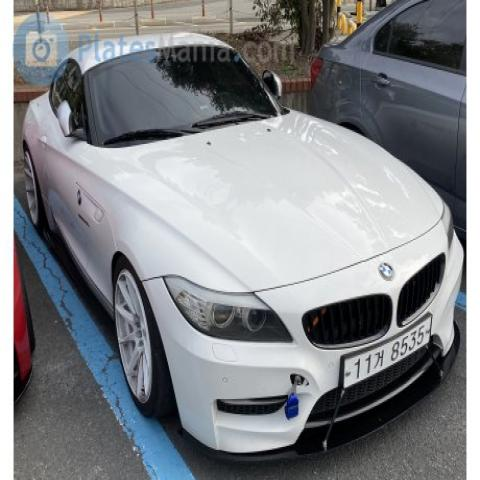LP: (333, 304, 441, 398)
